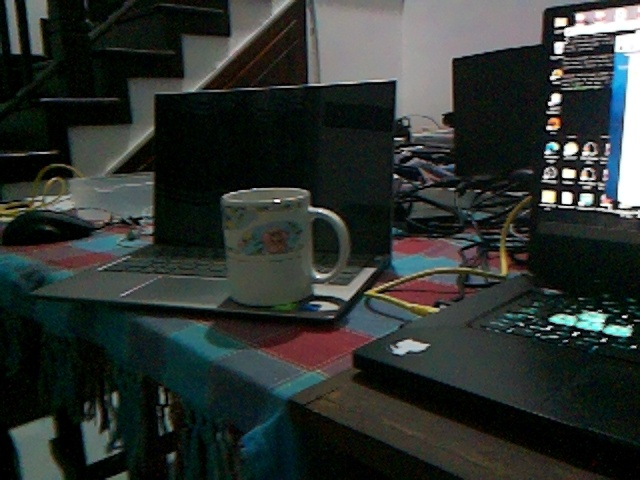mug: (217, 186, 353, 308)
